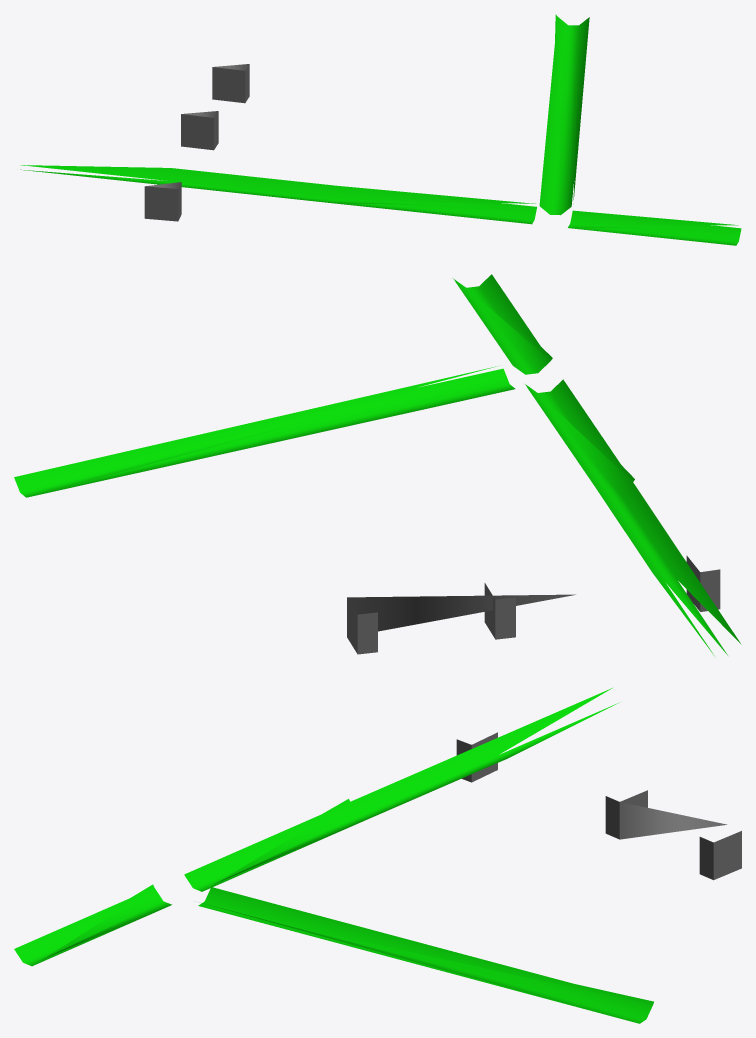
The picture shows the model from 3 angles, top to bottom: view 1: azimuth 30°, elevation 25°; view 2: azimuth 150°, elevation 25°; view 3: azimuth 270°, elevation 25°; orthographic projection. The views are drawn at different scales.
Bounding box in the file's own units: 56.49 × 3 × 52.47.
